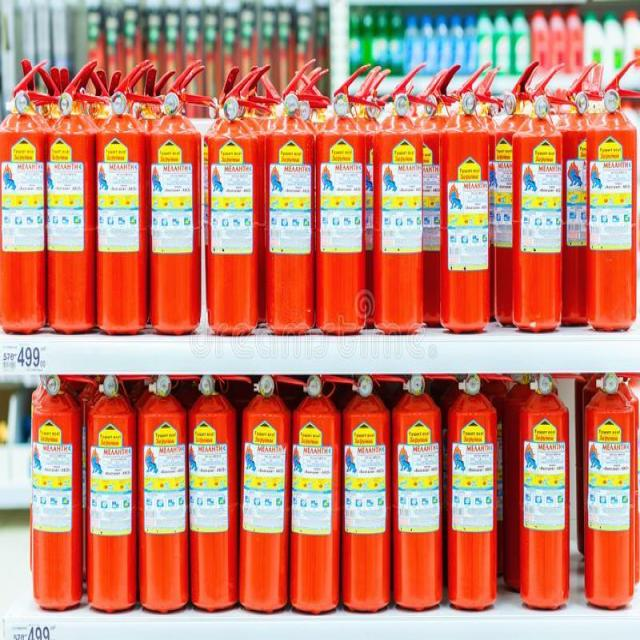fire_extinguisher: (434, 51, 502, 342), (260, 55, 329, 339), (144, 50, 212, 338), (369, 53, 438, 335), (200, 56, 268, 340), (92, 51, 159, 338), (46, 51, 112, 338), (510, 59, 577, 333), (314, 56, 376, 342), (578, 54, 640, 336), (510, 368, 577, 614), (409, 57, 469, 327), (546, 54, 604, 330), (133, 370, 197, 614), (81, 374, 146, 614), (182, 370, 246, 612), (26, 369, 88, 614), (488, 51, 542, 332), (233, 373, 295, 615), (1, 55, 52, 340), (337, 372, 397, 614), (581, 368, 639, 614), (387, 370, 447, 605), (287, 368, 341, 614), (444, 368, 499, 607)
